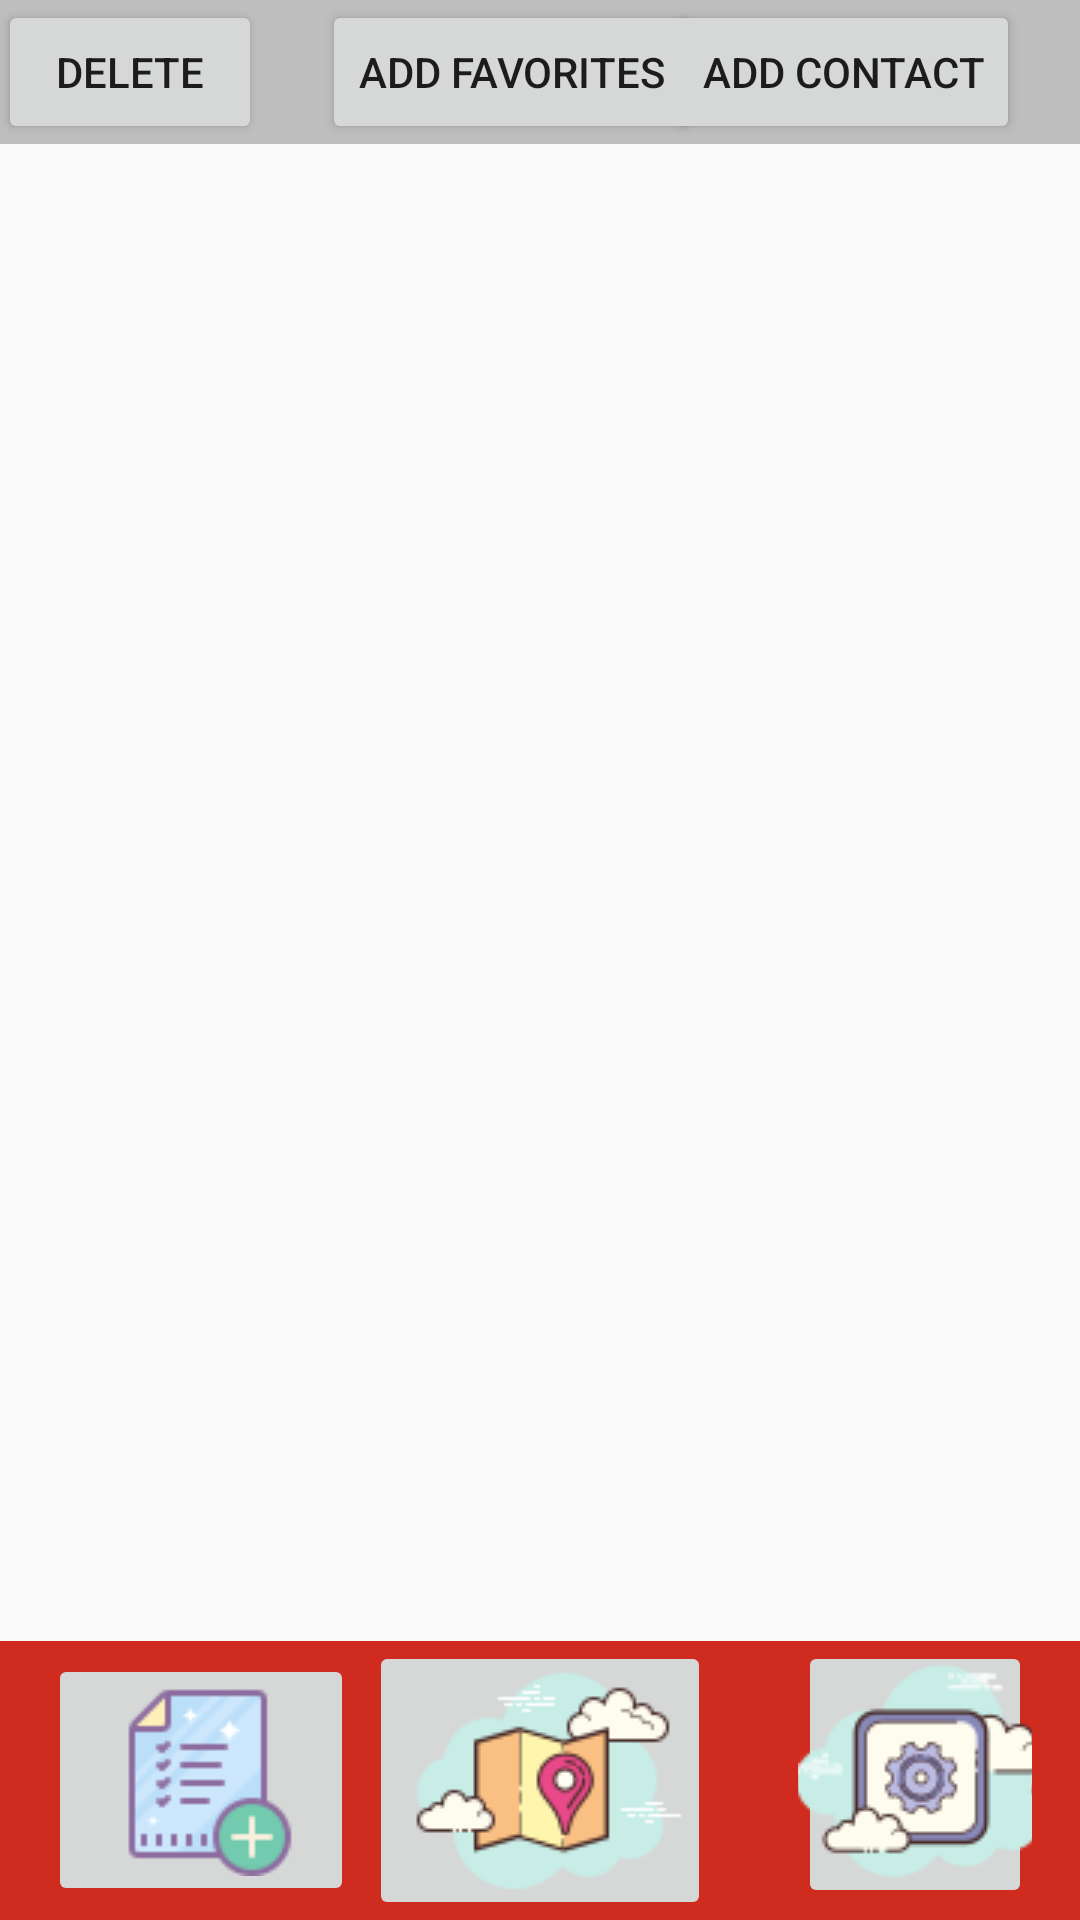

Named icons in this screenshot (1080 × 1920) and their centers, (x=x, y=y):
add list: (x=201, y=1780)
map marker: (x=540, y=1780)
settings: (x=915, y=1774)
